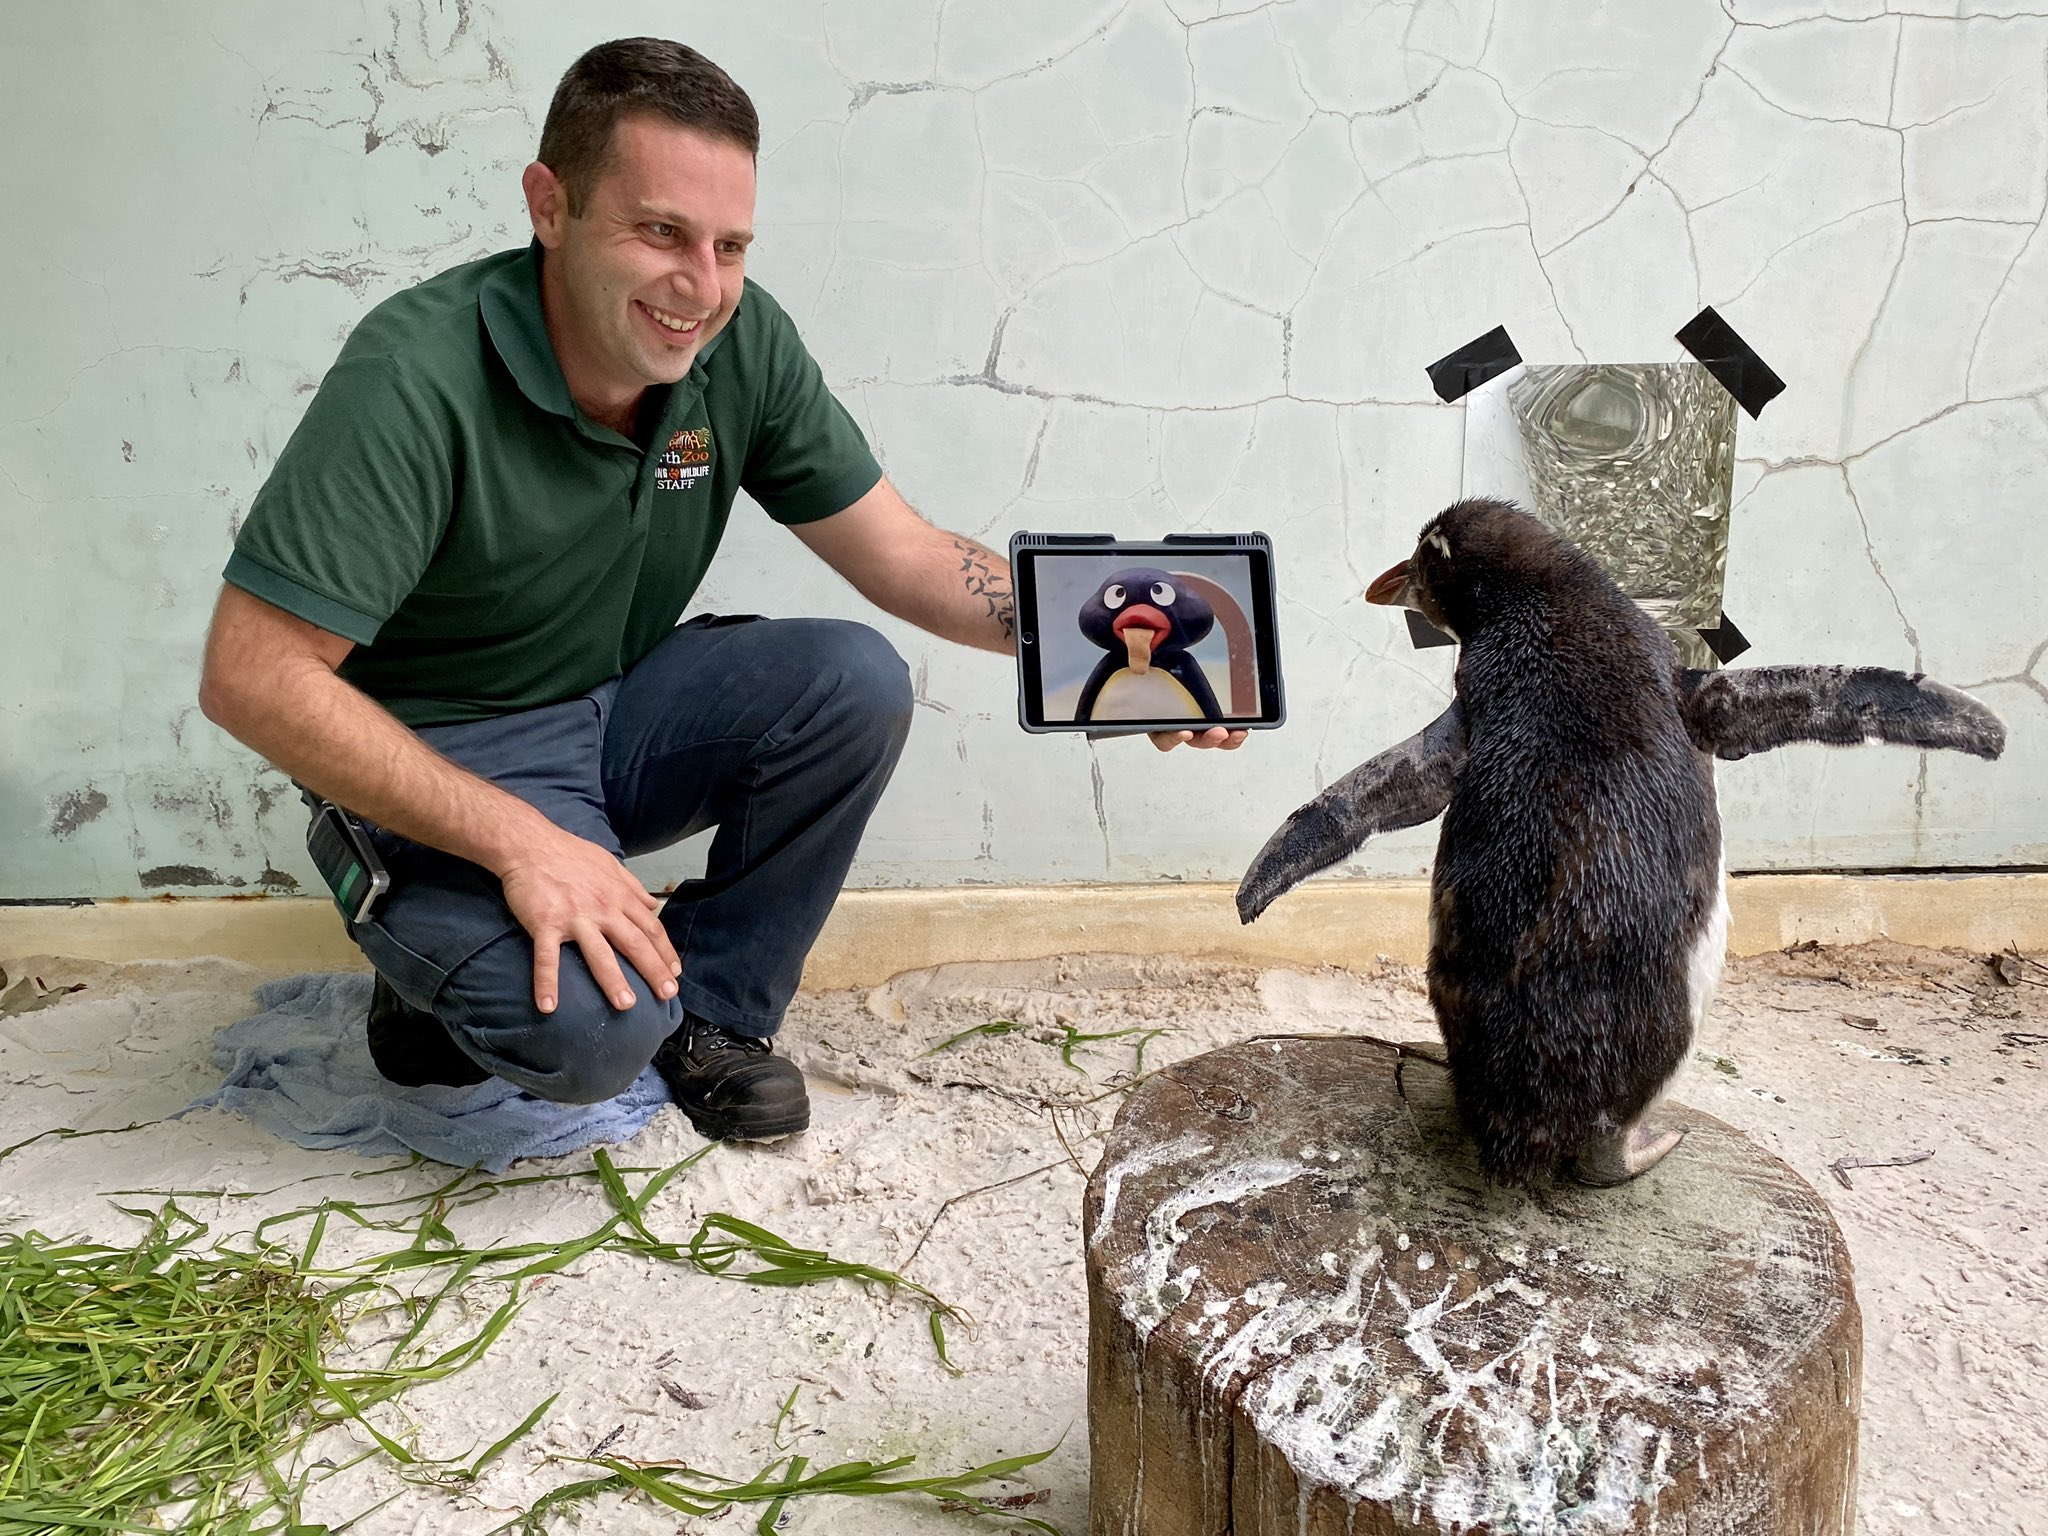penguin: (1228, 493, 2014, 1199)
person: (183, 32, 1275, 1148)
tablet: (1002, 520, 1306, 744)
